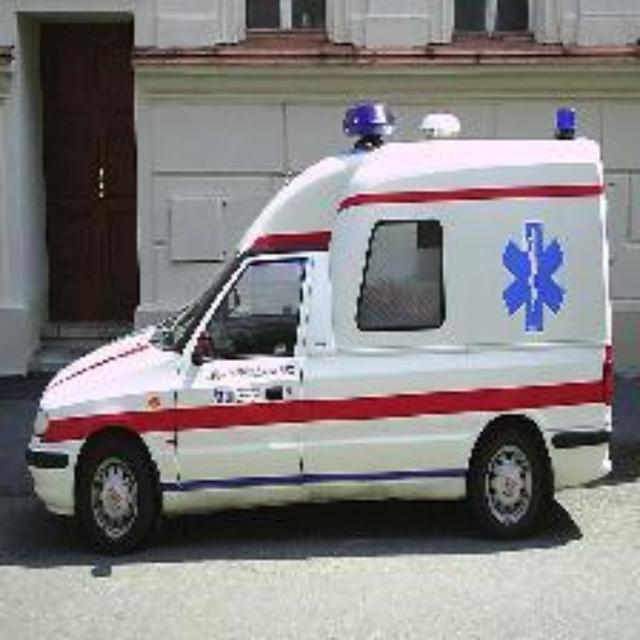emergency: (26, 111, 620, 556)
